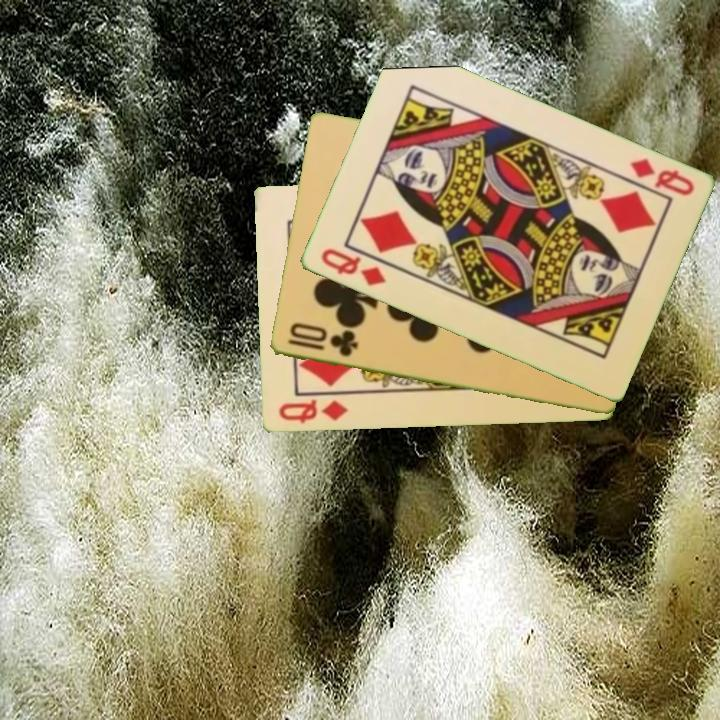10c: (284, 320, 361, 360)
Qd: (316, 245, 389, 290), (626, 154, 697, 199), (275, 396, 351, 427)
